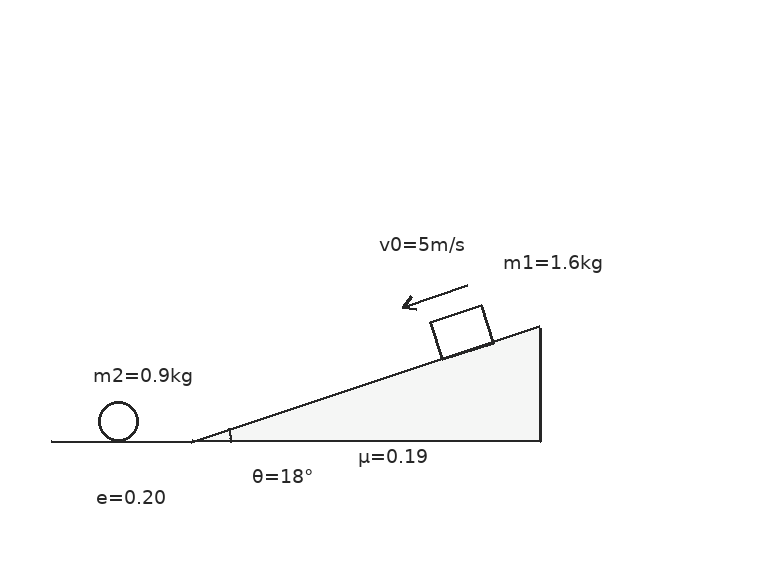ball: (96, 399, 140, 443)
block: (428, 304, 495, 361)
ramp: (189, 326, 542, 443)
